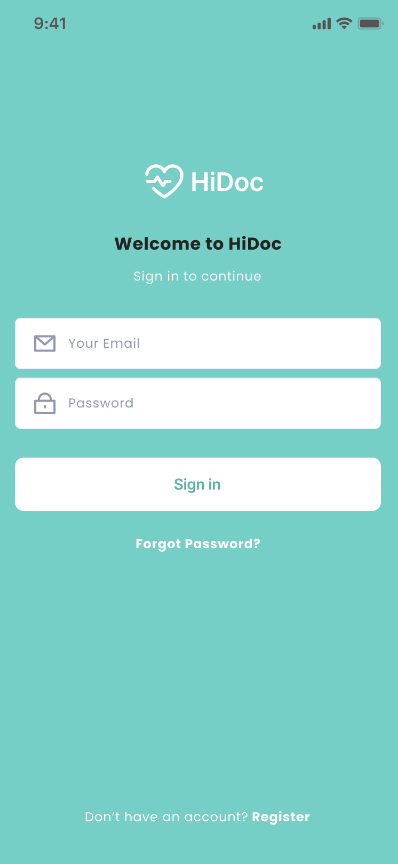Input: (12, 315, 383, 372), (13, 375, 384, 432)
